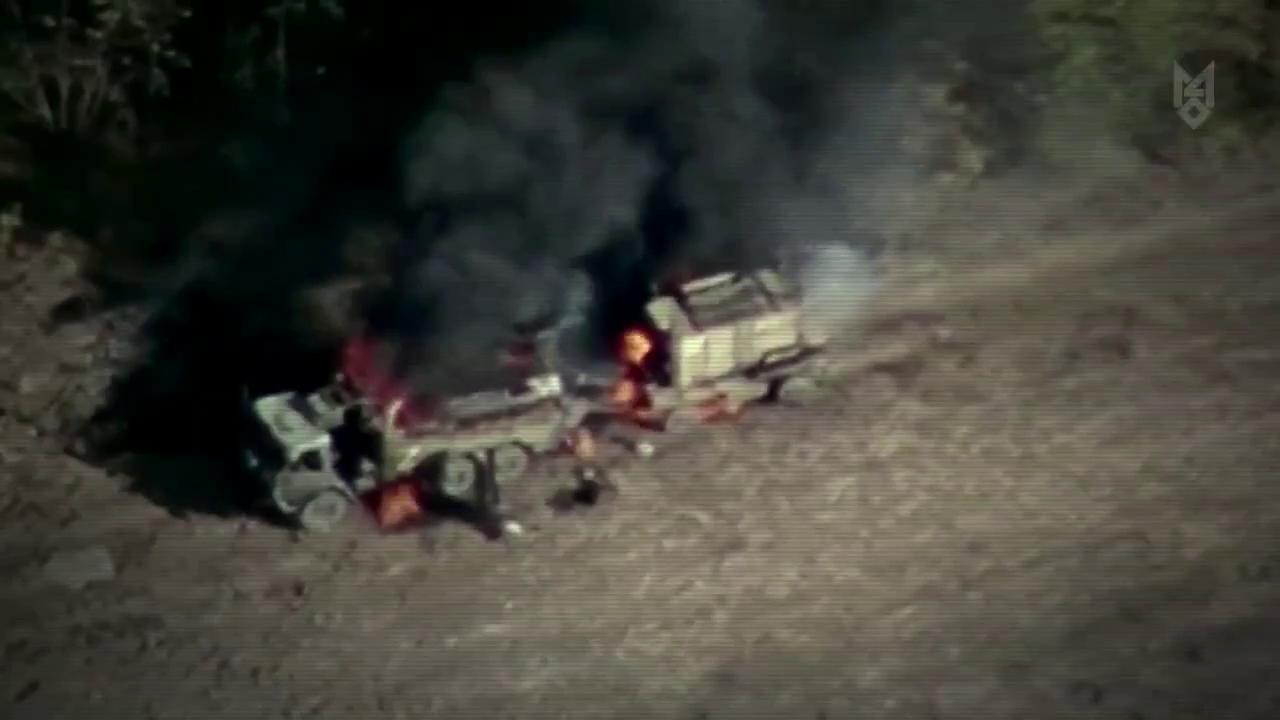tank: (243, 349, 594, 532), (632, 266, 817, 438)
